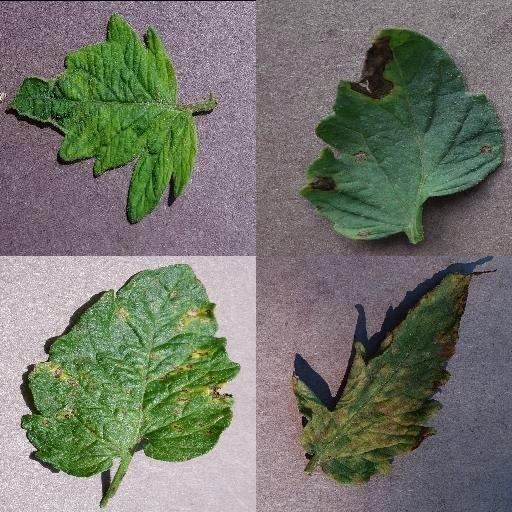Early Blight: (302, 26, 508, 242)
Leaf Mold: (292, 268, 472, 486)
Mosaic Virus: (5, 10, 197, 226)
Septoria: (20, 262, 240, 478)
